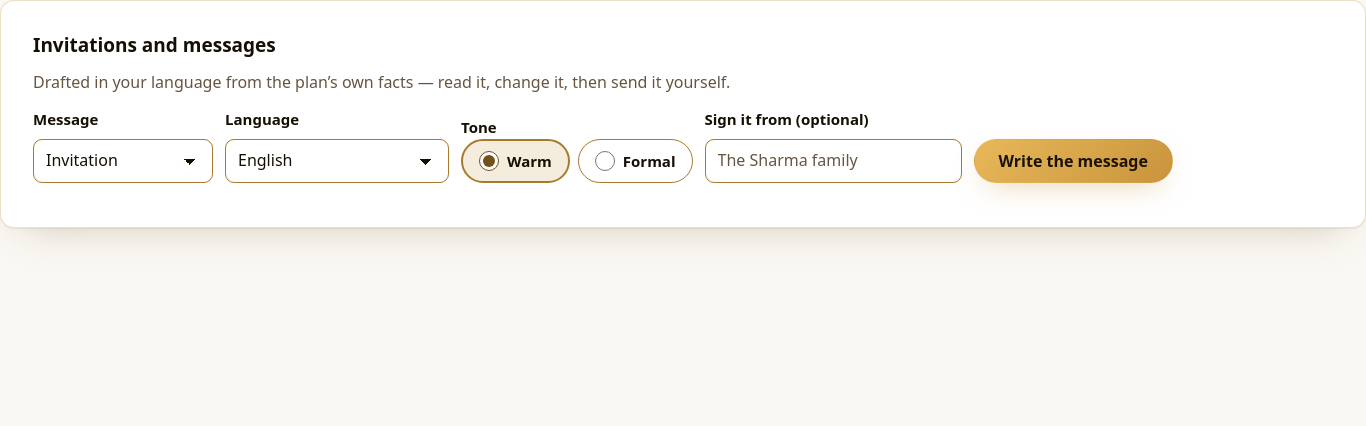
Test: MessageStudio › asks for an English draft in Hinglish after a Hinglish brief
Select "English" in the dropdown labelled "Language" at (337, 161), box left=225, top=139, right=449, bottom=183
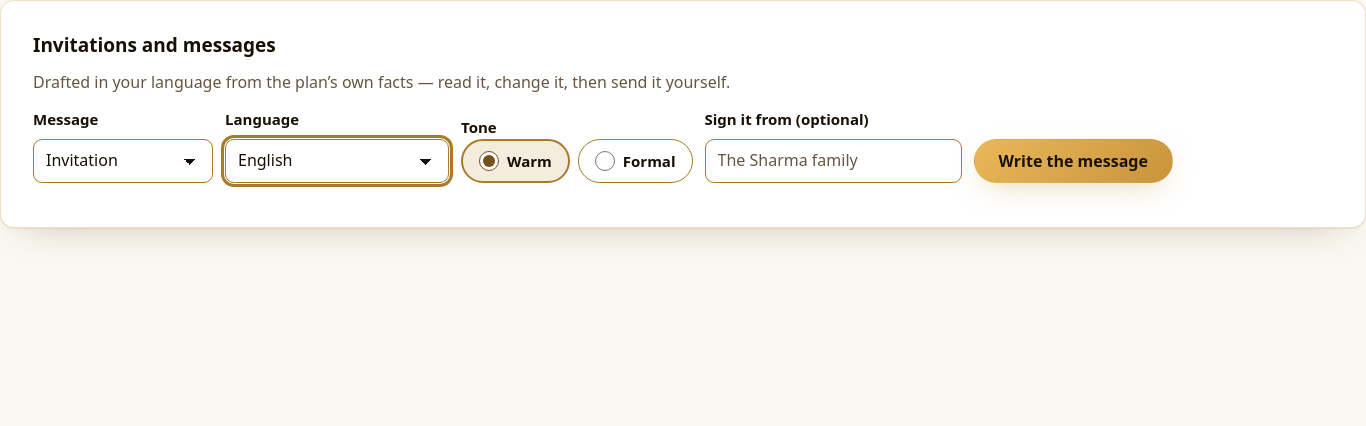
Click the button "Write the message" at (1073, 161), box left=974, top=139, right=1173, bottom=183
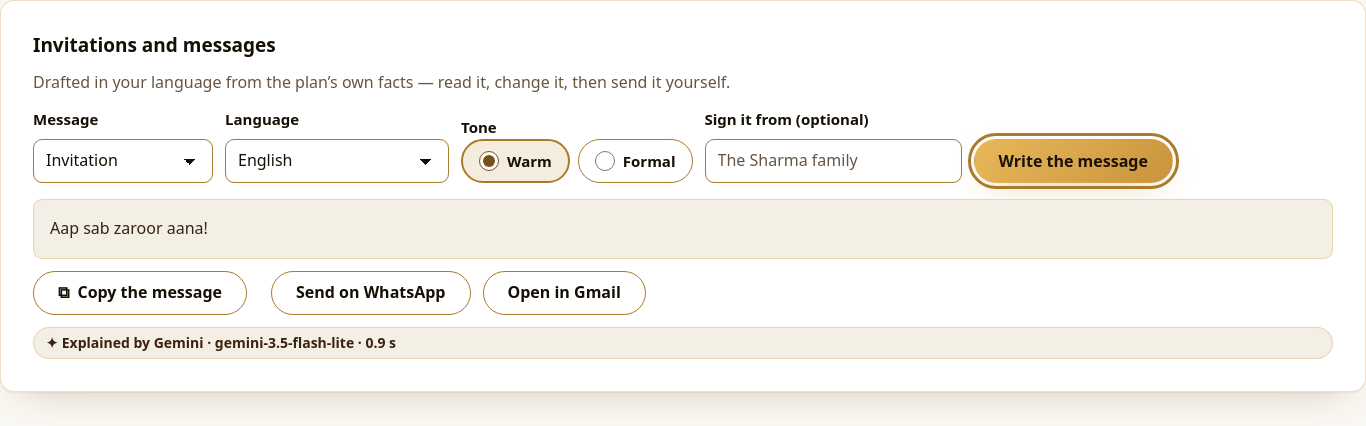
Result: the text "Aap sab zaroor aana!" is shown at left=33, top=199, right=1333, bottom=259
